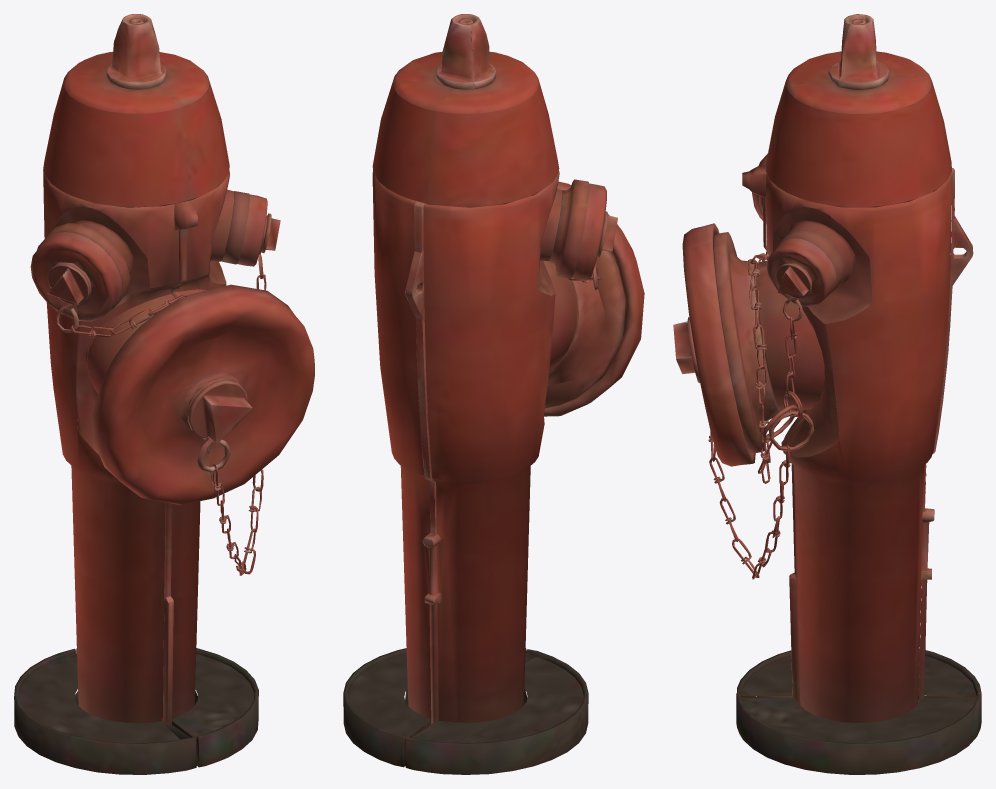
The model's file is hydrant.glb.
The picture shows the model from 3 angles, left to right: view 1: azimuth 30°, elevation 25°; view 2: azimuth 150°, elevation 25°; view 3: azimuth 270°, elevation 25°; orthographic projection.
Visible parts, largest first — view 1: fire_hydrant, fire_hydrant_cap_01, fire_hydrant_cap_03, fire_hydrant_chain, fire_hydrant_cap_02; view 2: fire_hydrant, fire_hydrant_cap_01, fire_hydrant_cap_03; view 3: fire_hydrant, fire_hydrant_cap_01, fire_hydrant_chain, fire_hydrant_cap_02.
Part boxes in pixels (x1,y1,x2,y2): fire_hydrant: [14, 14, 258, 774]; fire_hydrant_cap_01: [92, 284, 314, 504]; fire_hydrant_cap_03: [30, 232, 122, 321]; fire_hydrant_chain: [55, 216, 267, 575]; fire_hydrant_cap_02: [237, 194, 280, 266]; fire_hydrant: [343, 14, 625, 774]; fire_hydrant_cap_01: [544, 181, 644, 416]; fire_hydrant_cap_03: [572, 183, 617, 280]; fire_hydrant: [713, 14, 981, 774]; fire_hydrant_cap_01: [673, 223, 755, 466]; fire_hydrant_chain: [708, 251, 814, 579]; fire_hydrant_cap_02: [767, 238, 836, 306].
Size of the model in its own units: 0.2745 by 0.7996 by 0.3176.
Materials: 1 (1 with a texture image).
